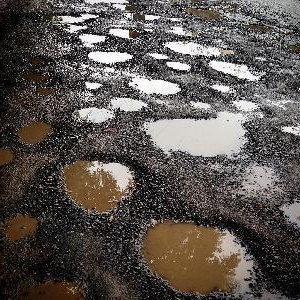pothole: (136, 214, 268, 298), (138, 112, 256, 162), (59, 154, 138, 214), (9, 262, 109, 299), (0, 203, 48, 245), (159, 36, 234, 57), (14, 115, 57, 146), (204, 58, 263, 80), (46, 9, 101, 31), (126, 74, 184, 94), (69, 104, 116, 125), (274, 196, 300, 229), (87, 45, 134, 62), (108, 94, 150, 111), (102, 25, 143, 38), (75, 32, 106, 44), (166, 60, 192, 72), (0, 144, 16, 163), (83, 79, 103, 91)
